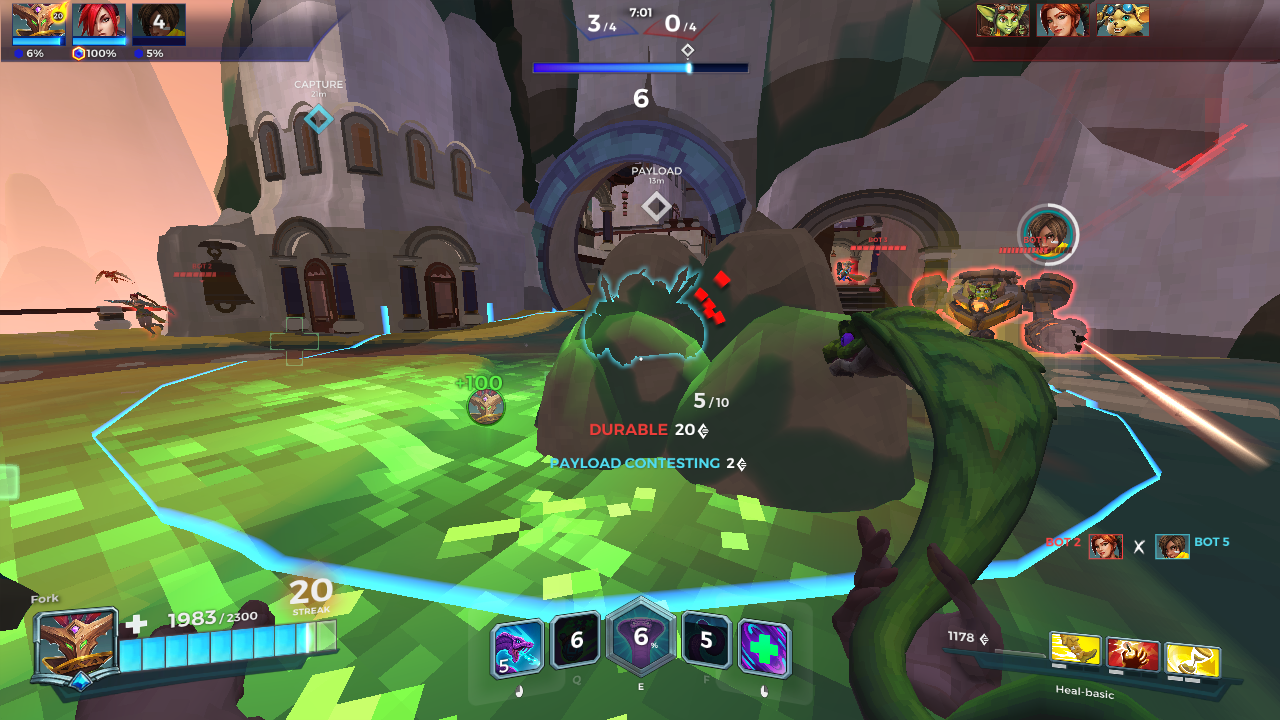model: (907, 251, 1088, 377), (122, 285, 172, 336), (835, 255, 861, 290)
